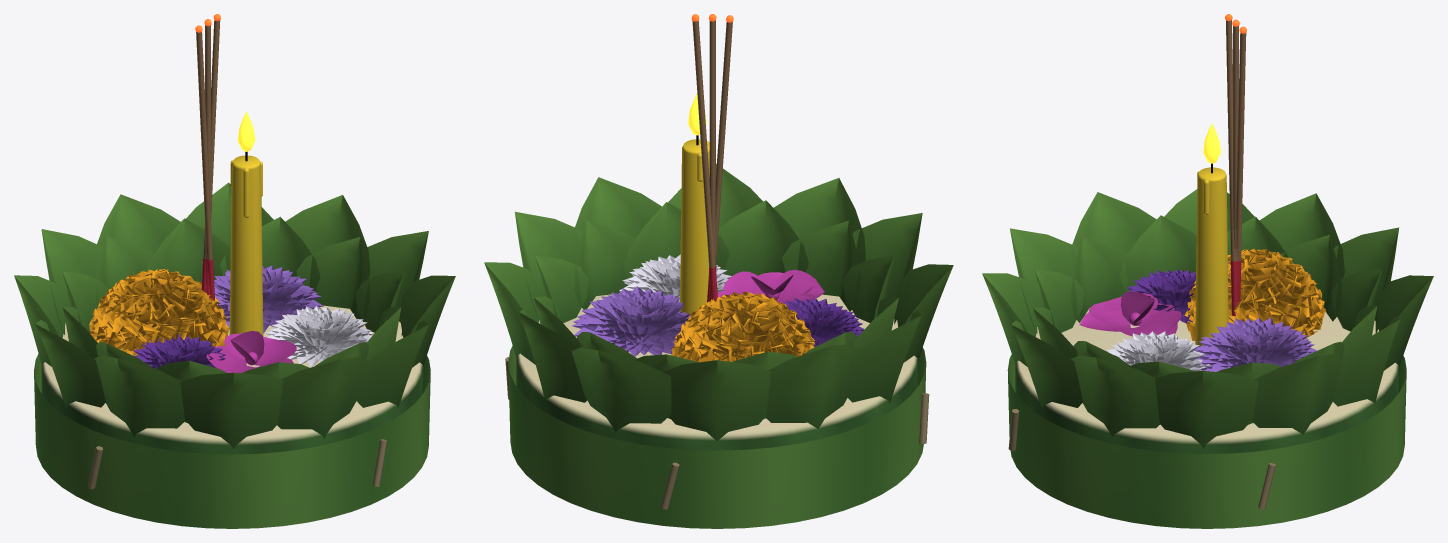
The model's file is small.glb.
The picture shows the model from 3 angles, left to right: view 1: azimuth 30°, elevation 25°; view 2: azimuth 150°, elevation 25°; view 3: azimuth 270°, elevation 25°; orthographic projection. The views are drawn at different scales.
Parts seen in each view (by area): view 1: folds_outer, leaf_band, folds_inner, base_trunk, chrysanthemum (×3), marigold, candle_body, incense_sticks, orchid, pins; view 2: folds_outer, leaf_band, folds_inner, base_trunk, chrysanthemum (×3), marigold, incense_sticks, candle_body, orchid, pins; view 3: folds_outer, leaf_band, folds_inner, base_trunk, chrysanthemum (×3), marigold, candle_body, incense_sticks, orchid, pins.
Boxes of the visible parts, x1,y1,x2,y2 form: folds_outer: (14, 182, 455, 449); leaf_band: (34, 354, 430, 528); folds_inner: (62, 216, 404, 422); base_trunk: (41, 305, 423, 454); chrysanthemum (×3): (133, 265, 373, 368); marigold: (89, 269, 229, 355); candle_body: (229, 155, 263, 336); incense_sticks: (196, 20, 220, 300); orchid: (206, 331, 296, 373); pins: (88, 439, 387, 489); folds_outer: (484, 163, 953, 441); leaf_band: (508, 346, 926, 528); folds_inner: (534, 200, 898, 419); base_trunk: (516, 293, 918, 450); chrysanthemum (×3): (572, 254, 864, 356); marigold: (671, 292, 814, 362); incense_sticks: (692, 20, 732, 302); candle_body: (680, 139, 709, 314); orchid: (717, 269, 824, 304); pins: (505, 357, 929, 509); folds_outer: (982, 189, 1433, 448); leaf_band: (1007, 354, 1406, 528); folds_inner: (1033, 215, 1381, 424); base_trunk: (1015, 308, 1398, 454); chrysanthemum (×3): (1106, 269, 1317, 371); marigold: (1183, 248, 1326, 341); candle_body: (1195, 167, 1228, 346); incense_sticks: (1226, 20, 1246, 316); orchid: (1079, 291, 1181, 336); pins: (1008, 409, 1275, 509).
Size of the model in its own units: 0.4723 by 0.484 by 0.4711.
